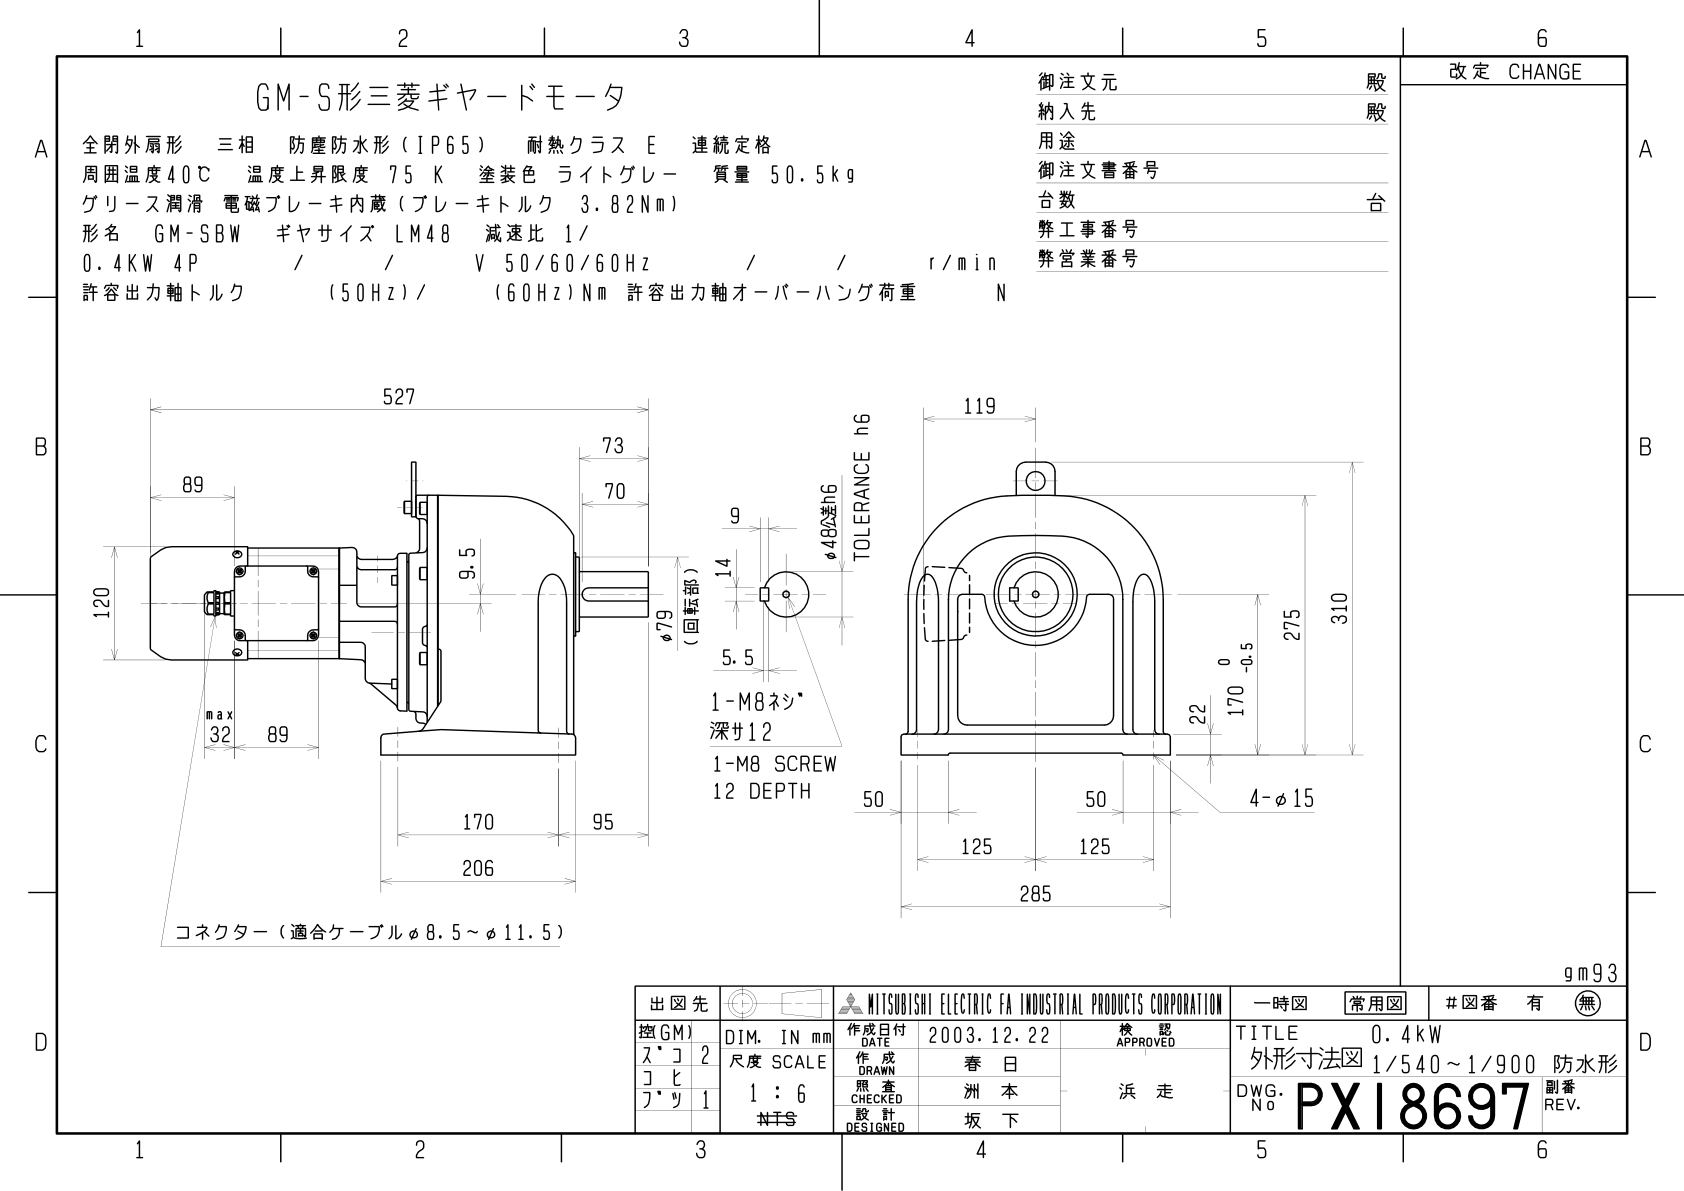GM_S_IP65＿三相_脚: (1, 5, 1680, 1178)
